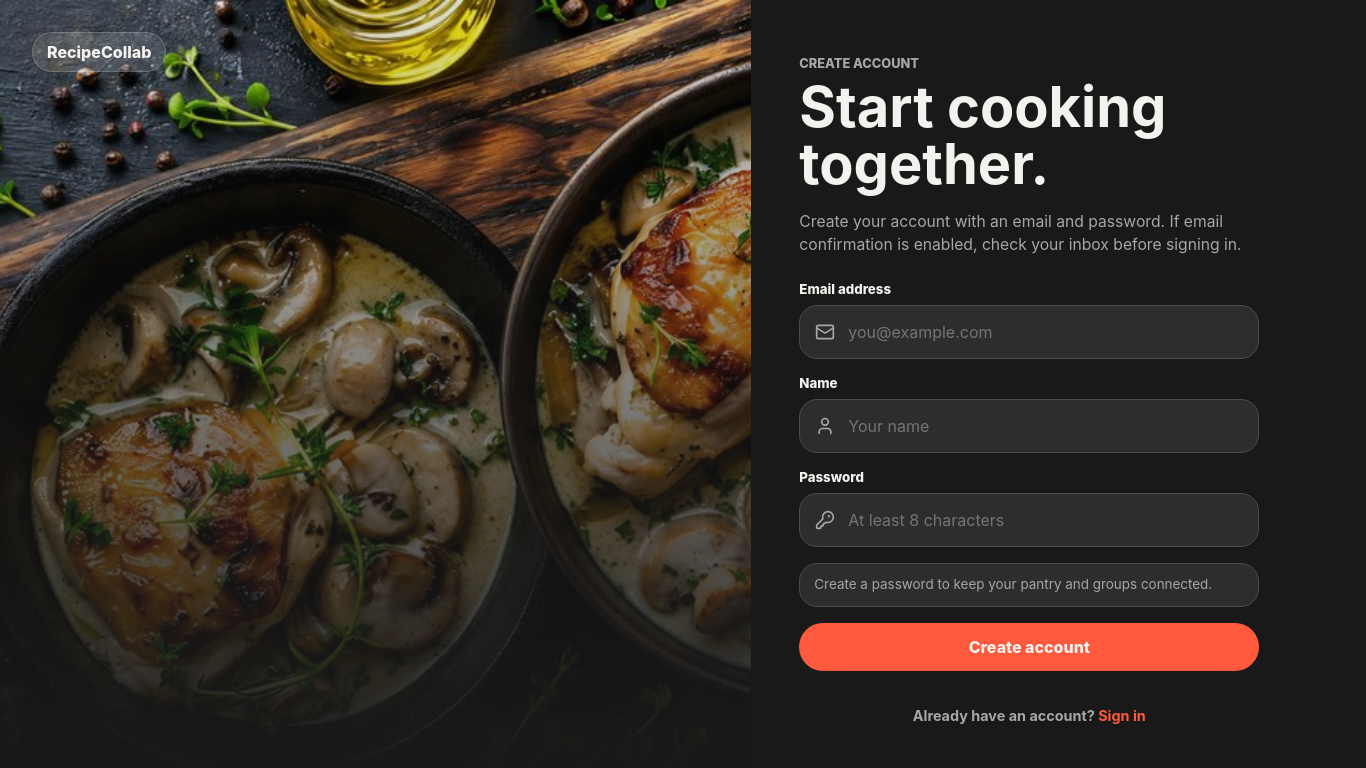
SignInPage password auth flow › shows a helpful message when the signup email already exists
Type "kartik@example.com" into the field labelled "Email address".
click(1029, 332); type("kartik@example.com")  # box [799, 305, 1259, 359]
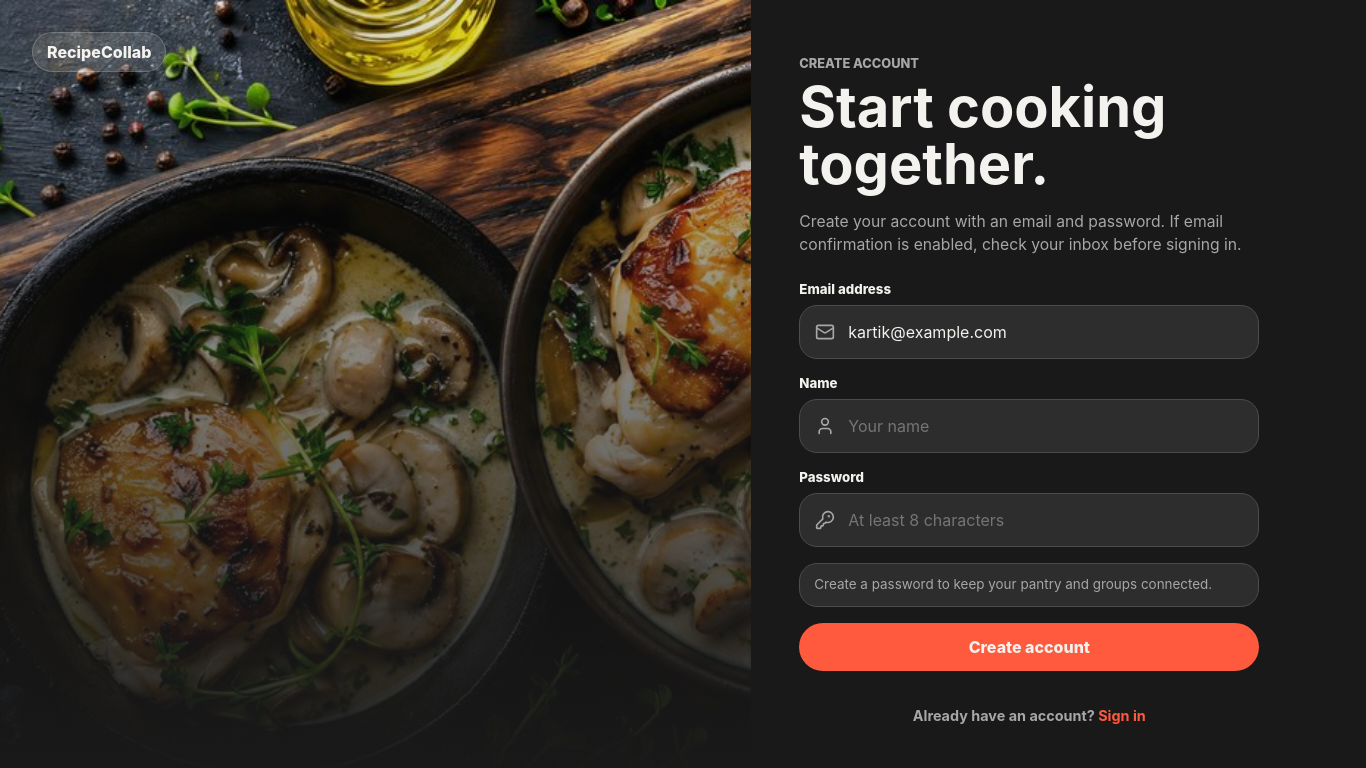
Type "Kartik" into the field labelled "Name".
click(1029, 426); type("Kartik")  # box [799, 399, 1259, 453]
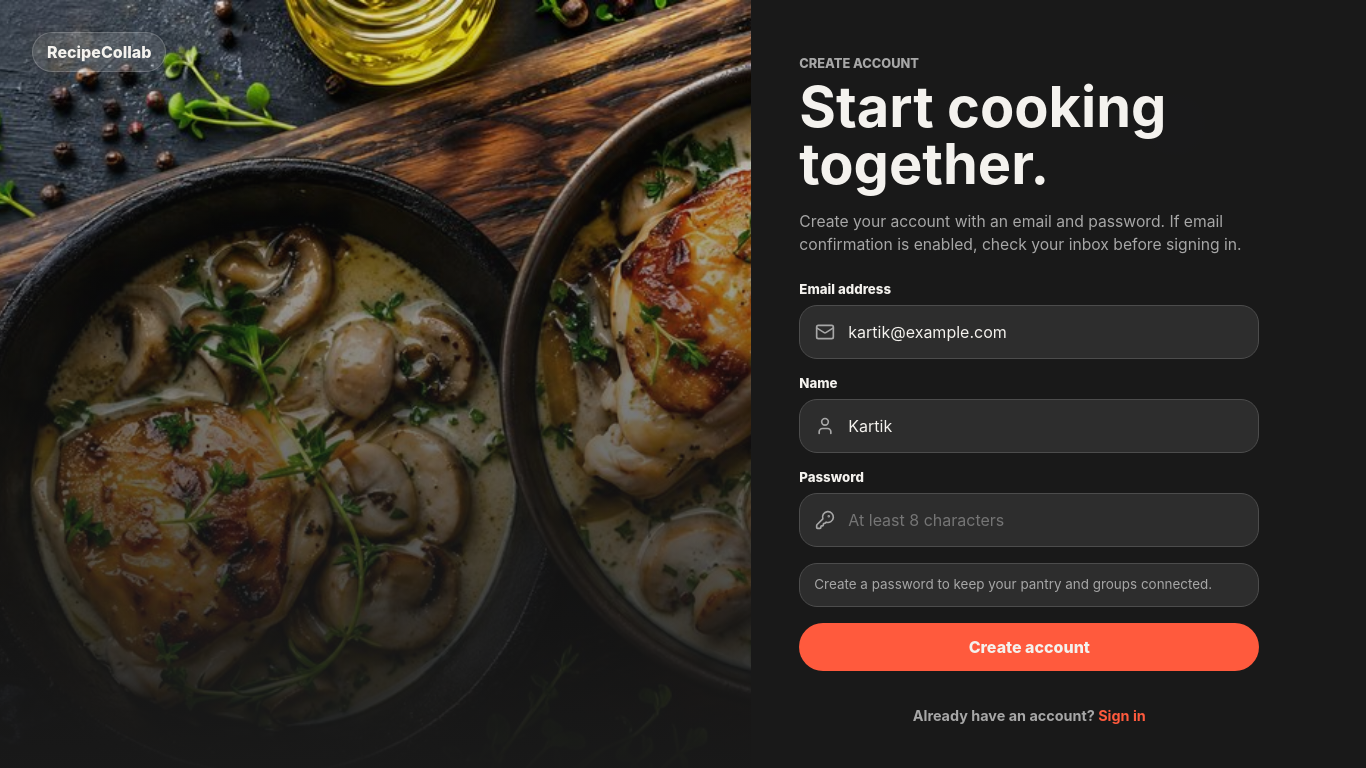
Type "correct-horse" into the password field labelled "Password".
click(1029, 520); type("correct-horse")  # box [799, 493, 1259, 547]
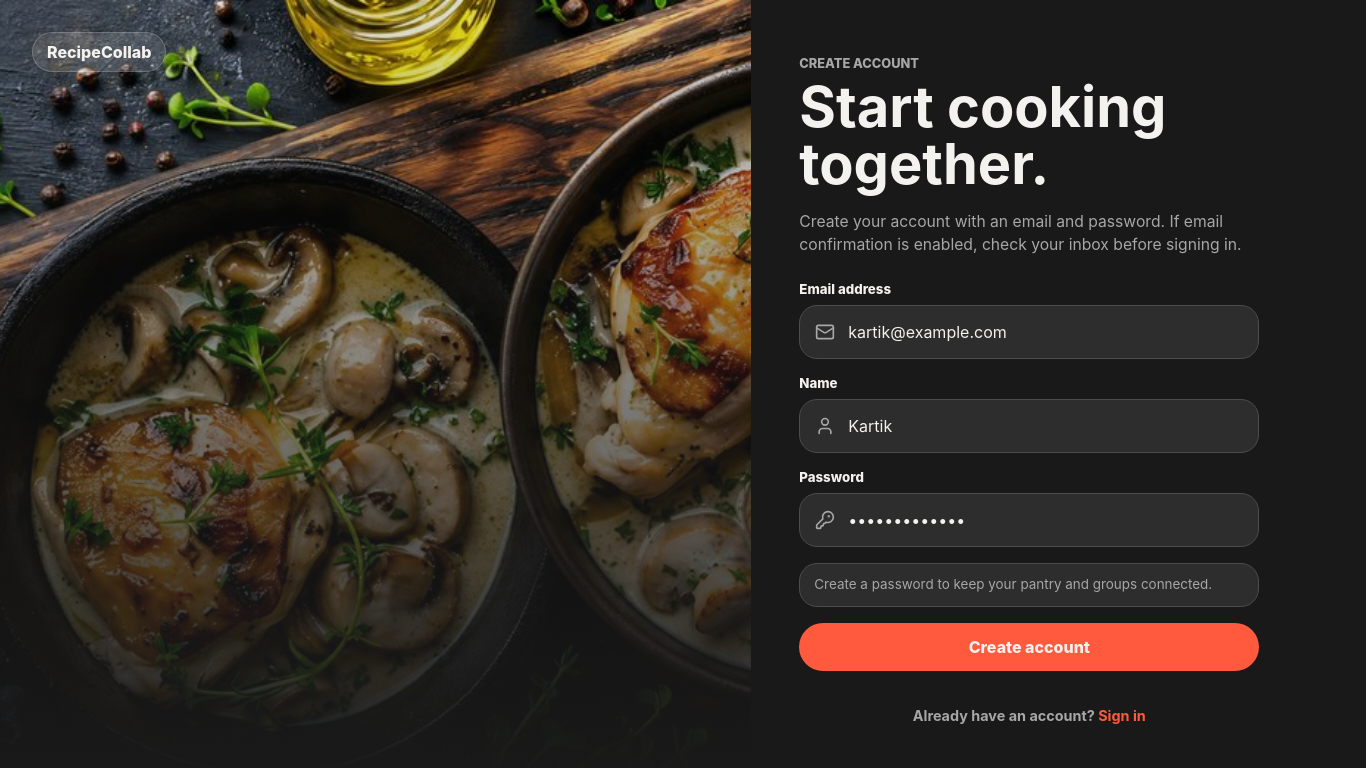
Click the button "Create account".
click(1029, 647)  # box [799, 623, 1259, 671]
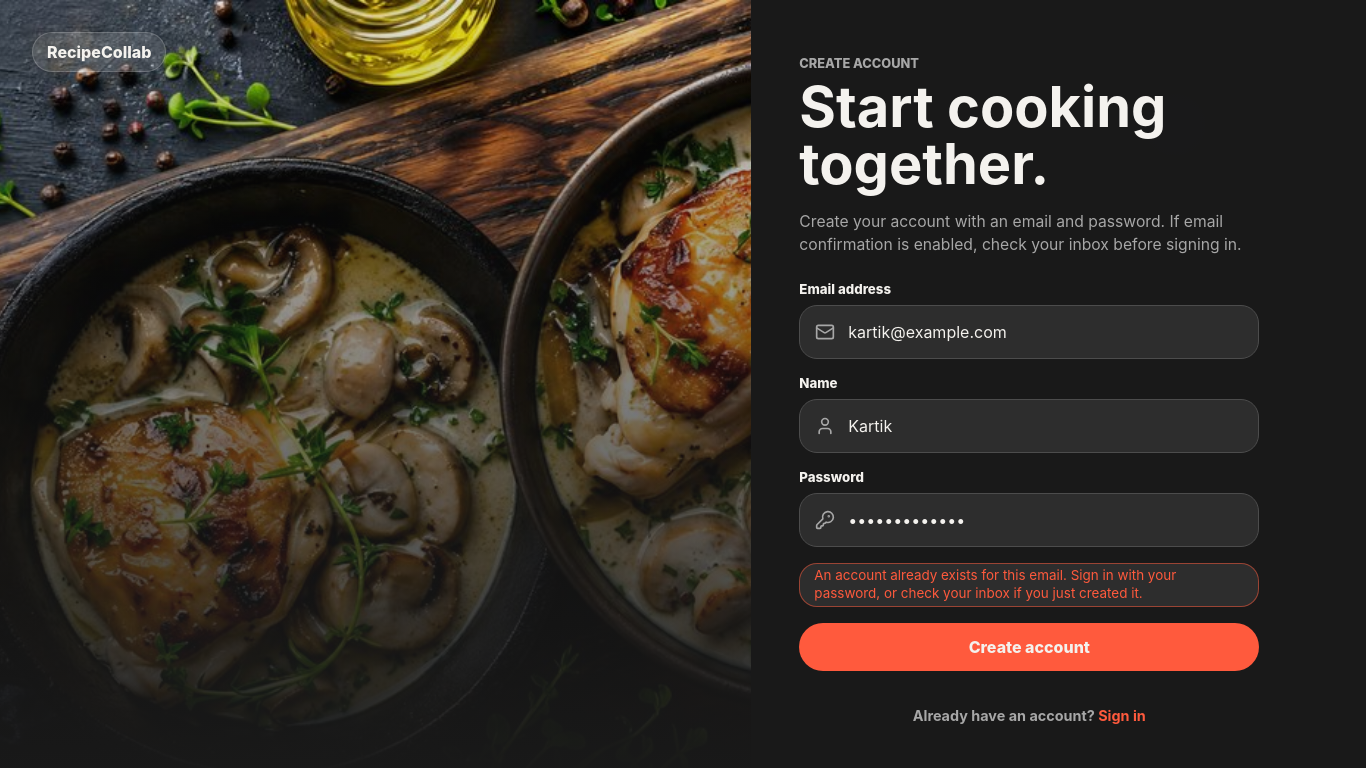
Expected: the text "account already exists" is shown, [814, 567, 1176, 601]
